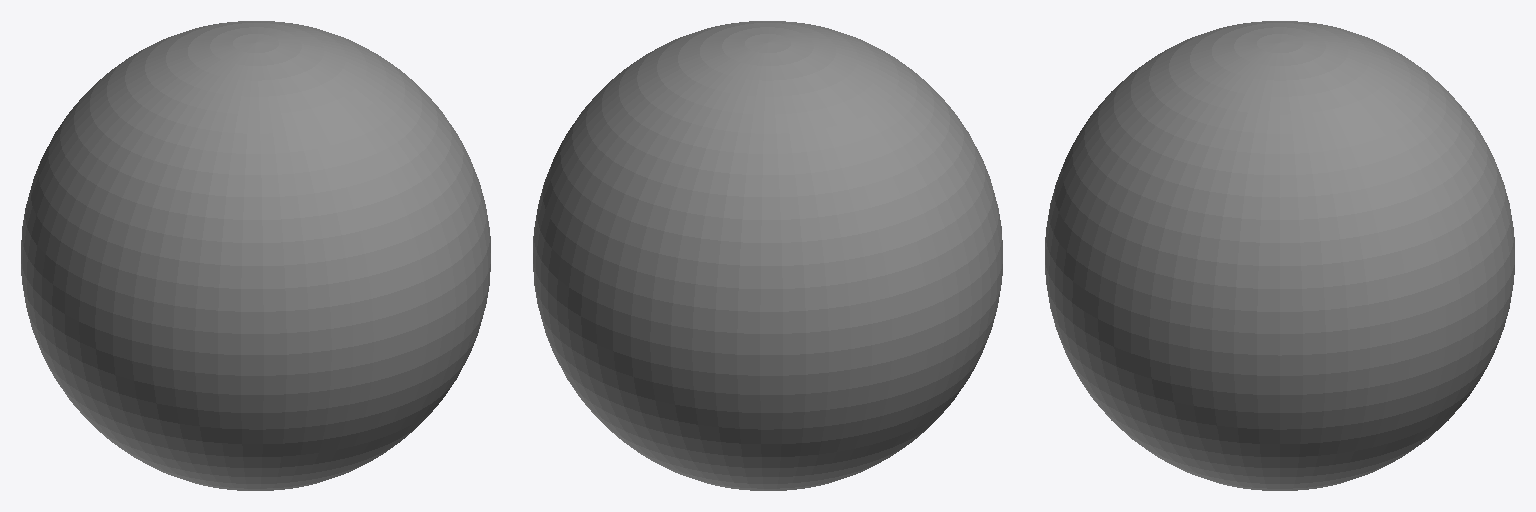
Rendered from earth.obj.
The picture shows the model from 3 angles: view 1: azimuth 30°, elevation 25°; view 2: azimuth 150°, elevation 25°; view 3: azimuth 270°, elevation 25°; orthographic projection.
Parts seen in each view (by area): view 1: earth; view 2: earth; view 3: earth.
Boxes of the visible parts, box(x1,y1,x2,y2) form: earth: box(21, 21, 490, 490); earth: box(533, 21, 1002, 490); earth: box(1045, 21, 1514, 490).
Size of the model in its own units: 6.31 by 6.31 by 6.31.